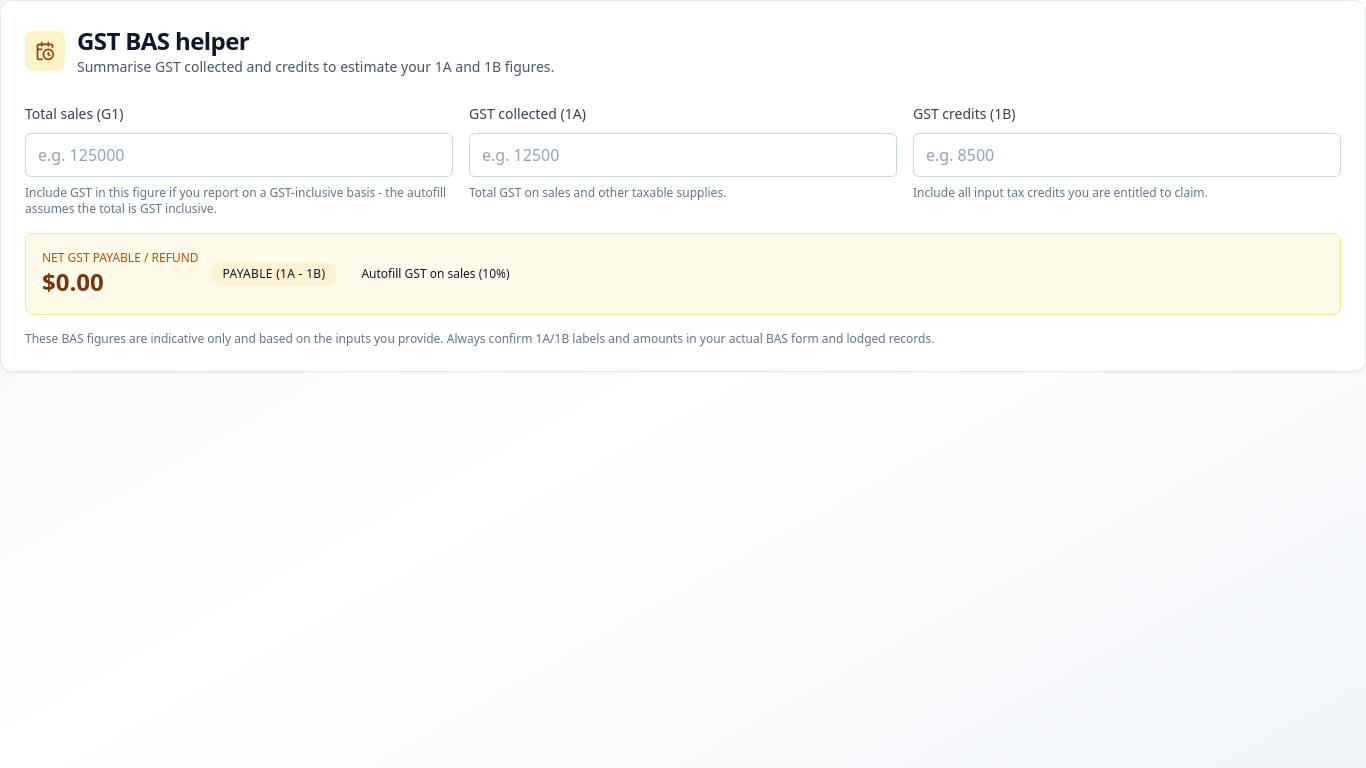
it: GstBasHelper › autofill handles non-round amounts via the shared calculator
Type "100.50" into the field labelled "Total sales (G1)" at point(239, 155), box [25, 133, 453, 177]
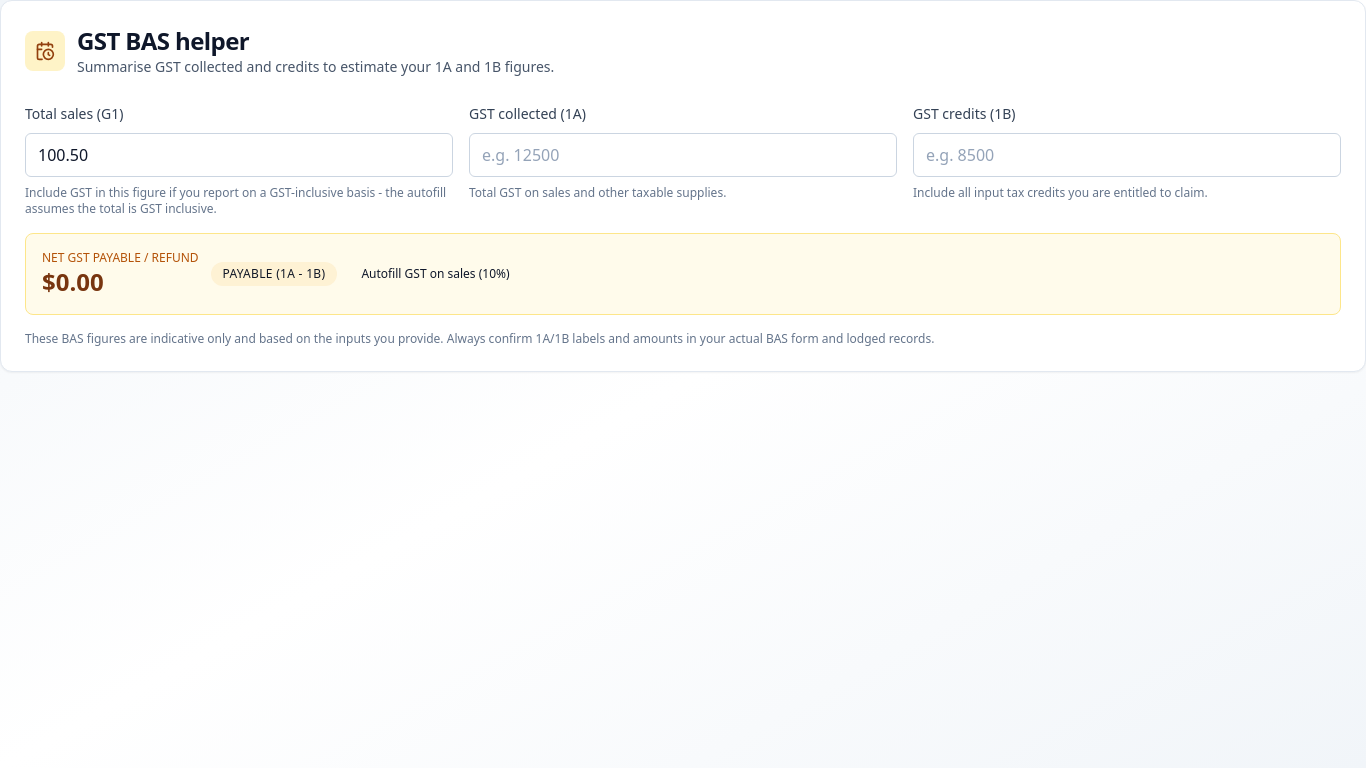
Type "0" into the field labelled "GST collected (1A)" at point(683, 155), box [469, 133, 897, 177]
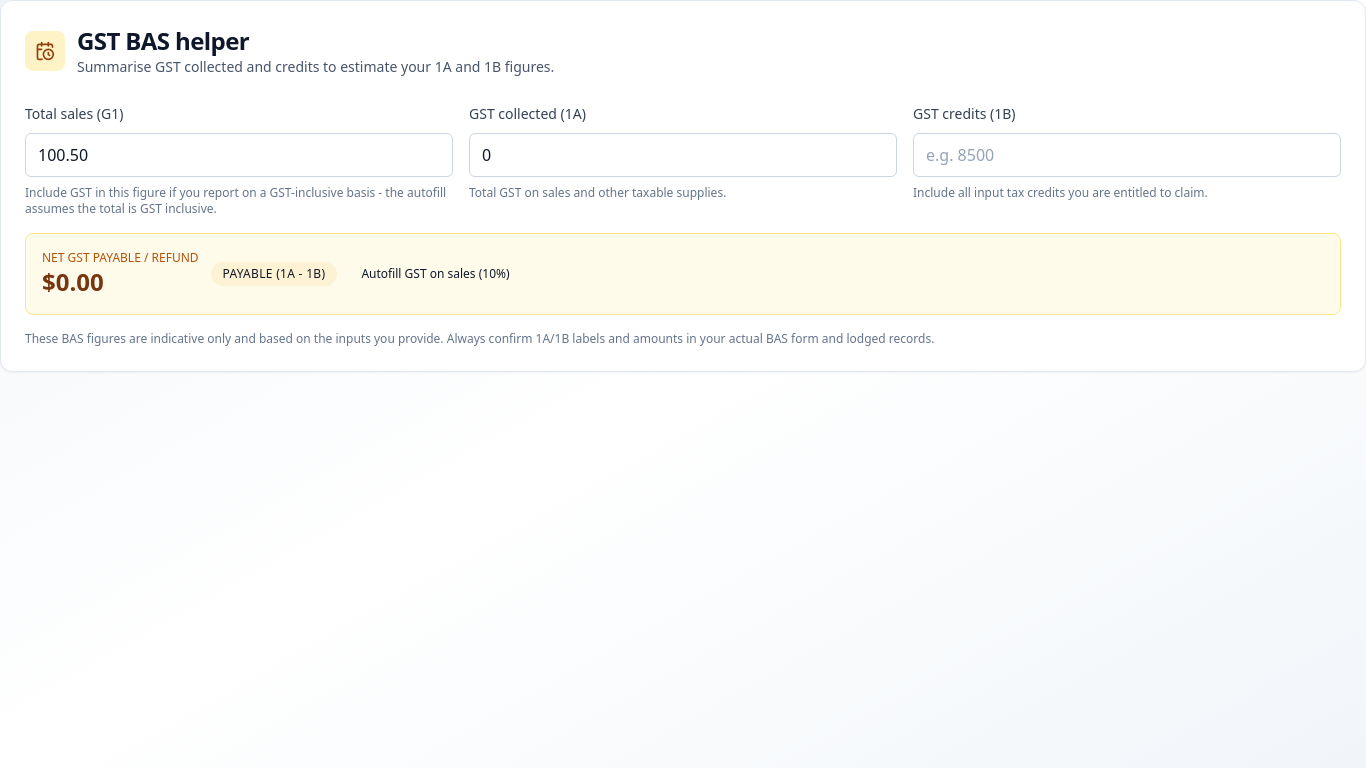
Type "0" into the field labelled "GST credits (1B)" at point(1127, 155), box [913, 133, 1341, 177]
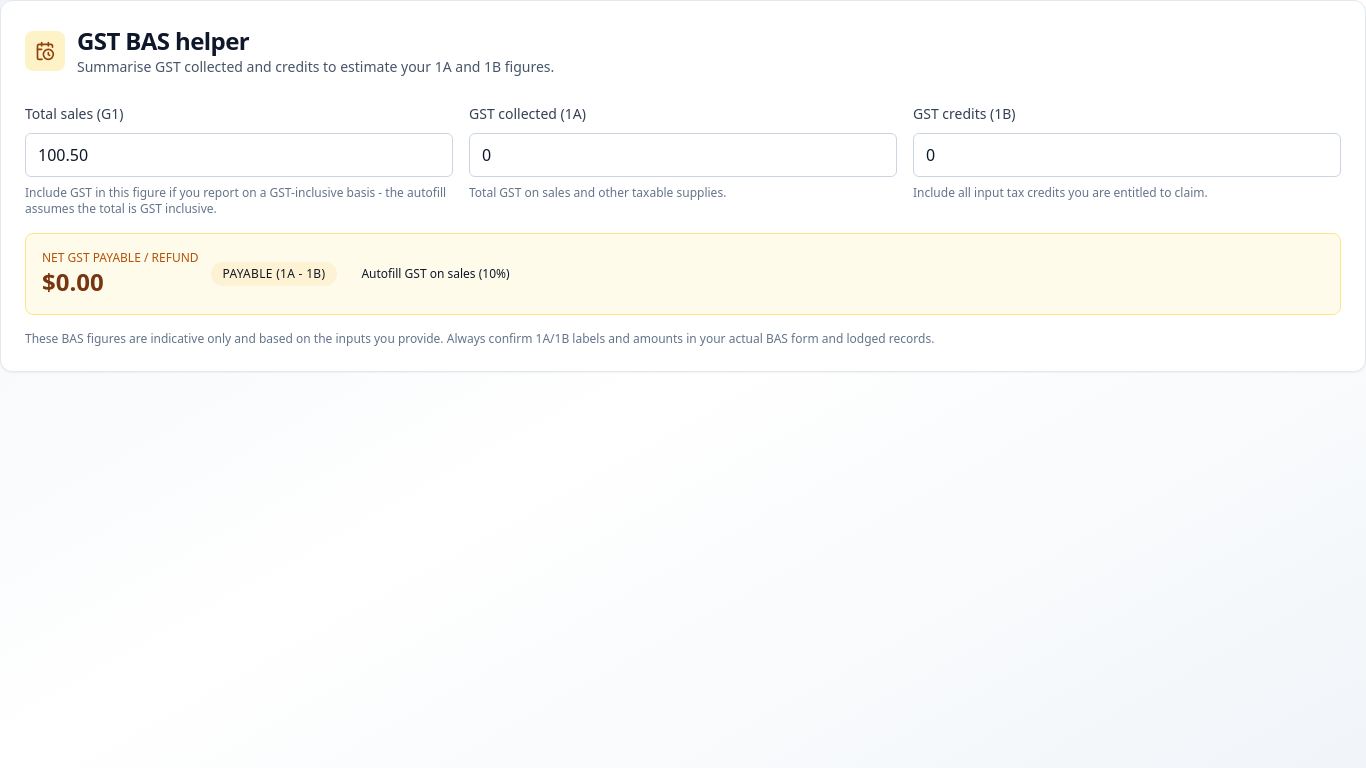
Click the button "Autofill GST on sales (10%)" at point(436, 274), box [349, 258, 522, 290]
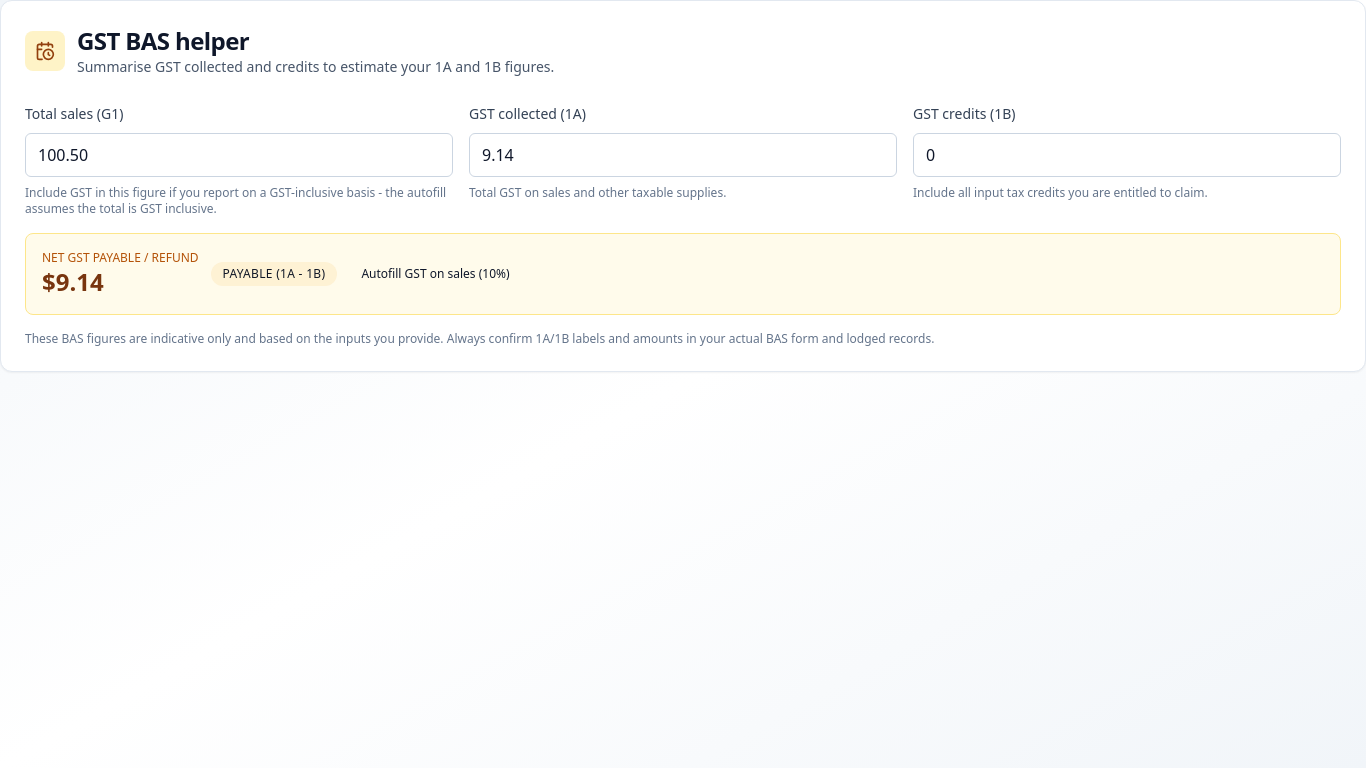
Now the text "$9.14" is shown, box [42, 265, 104, 298]
